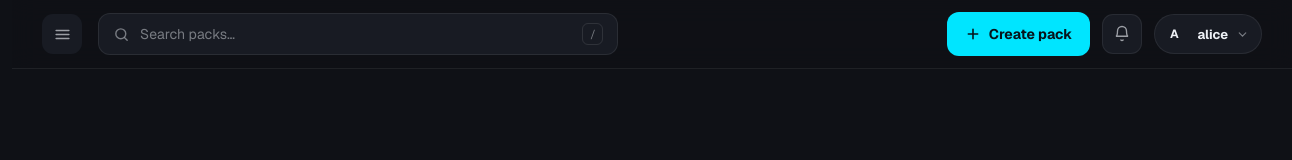
AppTopBar › publishes the search term without navigating
Step 1. Type "anime" into the search field → (356, 34), box [140, 24, 572, 44]
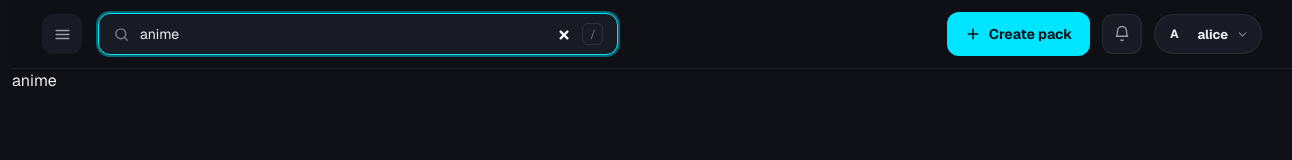
Now the text with test id "shared-query" reads "anime", box [12, 70, 57, 91]
